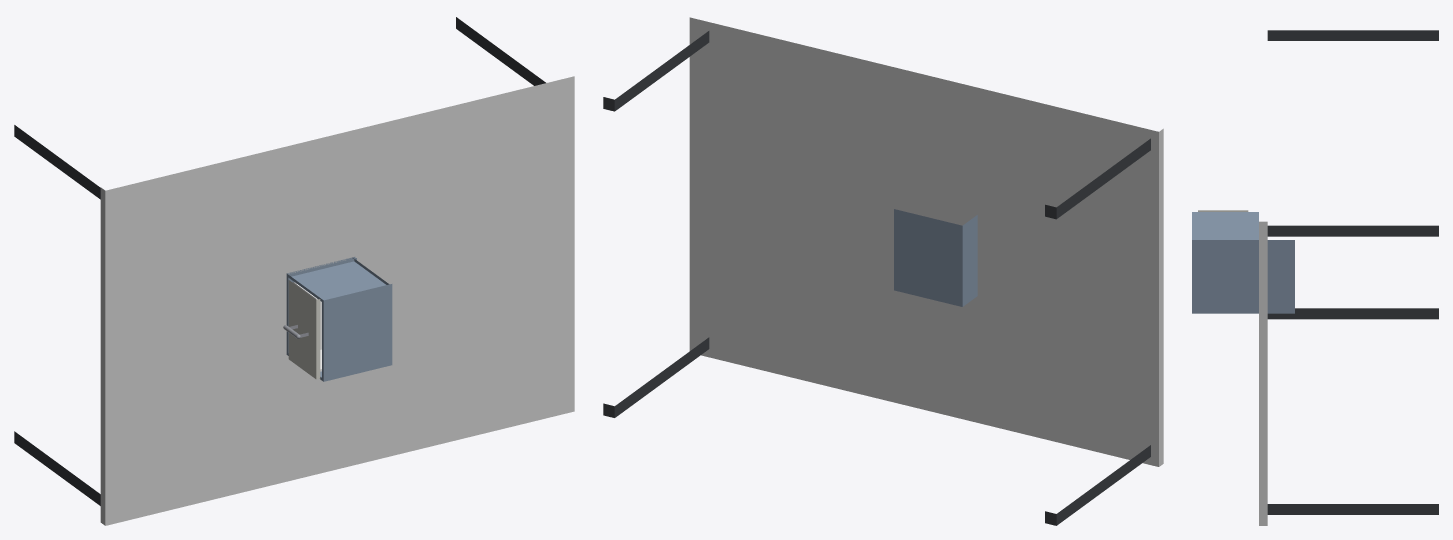
The model's file is t2_16f6b01adc.glb.
3 views of the same model, side by side, from view 1: azimuth 30°, elevation 25°; view 2: azimuth 150°, elevation 25°; view 3: azimuth 270°, elevation 25° (orthographic). The views are drawn at different scales.
Visible parts, largest first — view 1: s0, s1, s2; view 2: s0, s1; view 3: s0, s1.
Part boxes in pixels (x1=…): s0: x1=14, y1=17, x2=574, y2=525; s1: x1=286, y1=257, x2=392, y2=381; s2: x1=283, y1=280, x2=321, y2=379; s0: x1=603, y1=17, x2=1163, y2=525; s1: x1=894, y1=209, x2=977, y2=306; s0: x1=1259, y1=30, x2=1438, y2=525; s1: x1=1192, y1=212, x2=1294, y2=313.
Size of the model in its own units: 2.05 by 1.4 by 1.03.
